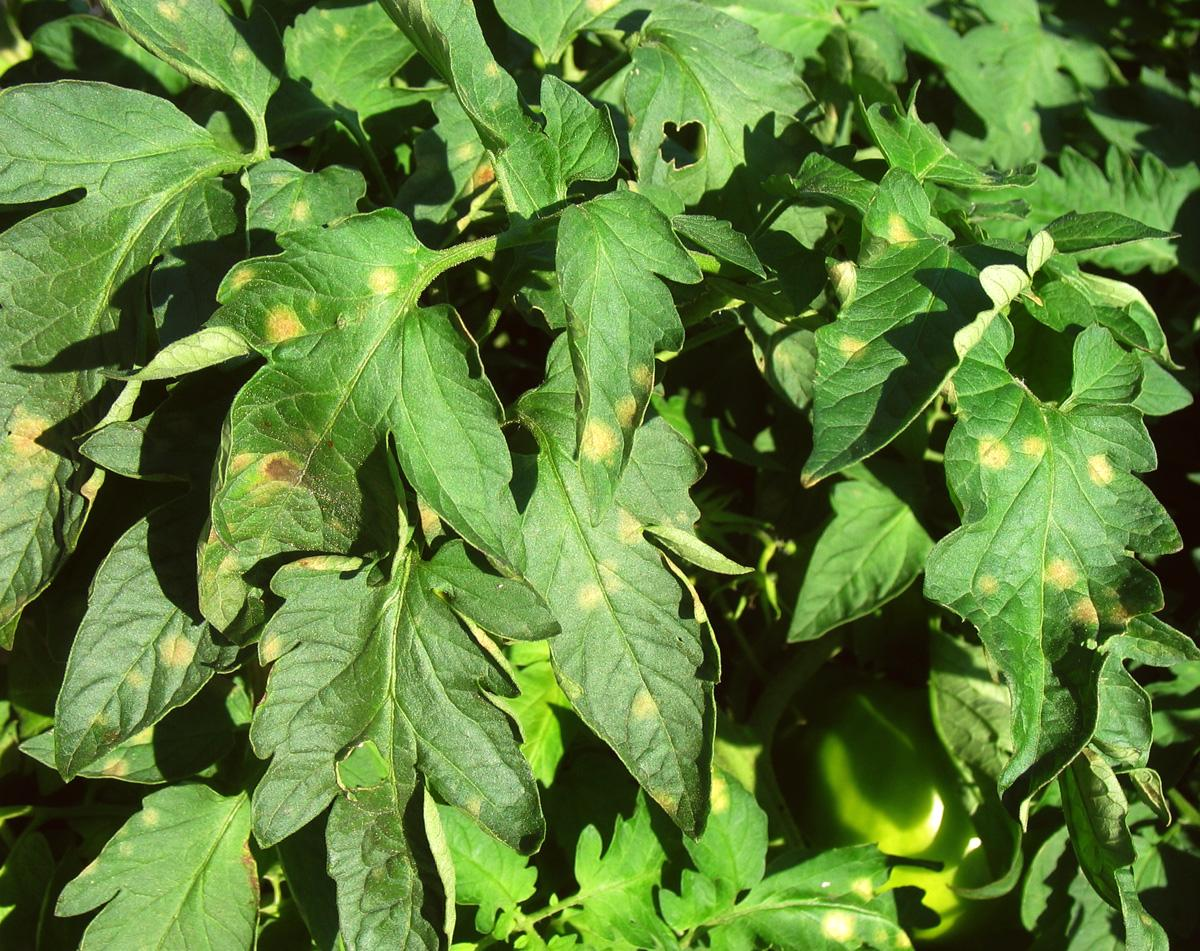Tomato mold leaf: (163, 192, 526, 615), (492, 379, 768, 835), (944, 305, 1184, 801), (225, 552, 556, 901), (795, 178, 1043, 472), (44, 502, 253, 791), (554, 188, 684, 529)
